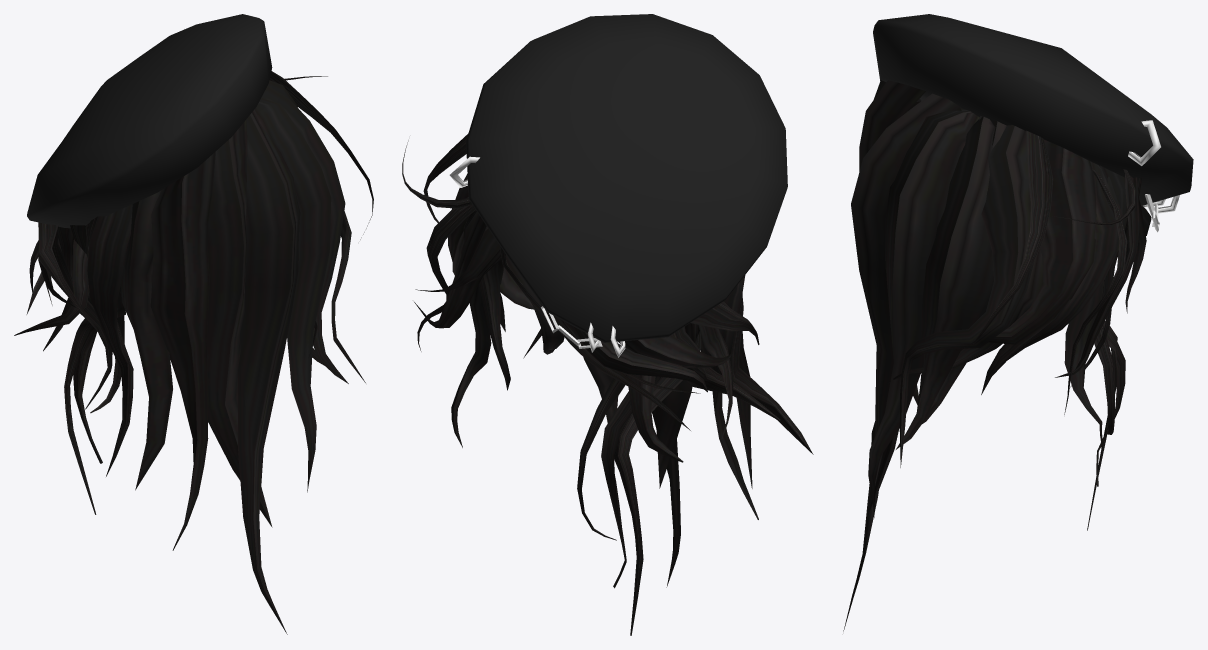
The picture shows the model from 3 angles, left to right: view 1: azimuth 30°, elevation 25°; view 2: azimuth 150°, elevation 25°; view 3: azimuth 270°, elevation 25°; orthographic projection. The views are drawn at different scales.
Visible parts, largest first — view 1: geometry_0; view 2: geometry_0; view 3: geometry_0.
Boxes of the visible parts, box(x1,y1,x2,y2) form: geometry_0: box(14, 14, 373, 634); geometry_0: box(402, 14, 813, 635); geometry_0: box(843, 14, 1193, 631).
Bounding box in the file's own units: 2.16 × 3.62 × 1.89.
Materials: 1 (1 with a texture image).
